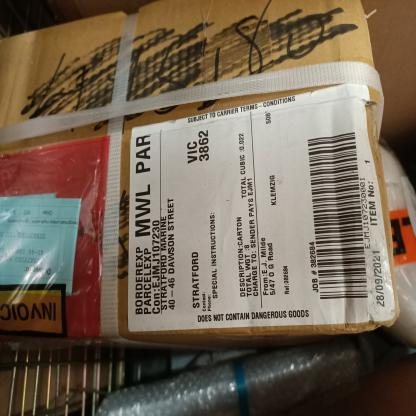label: (126, 83, 399, 334)
package: (0, 0, 404, 339)
